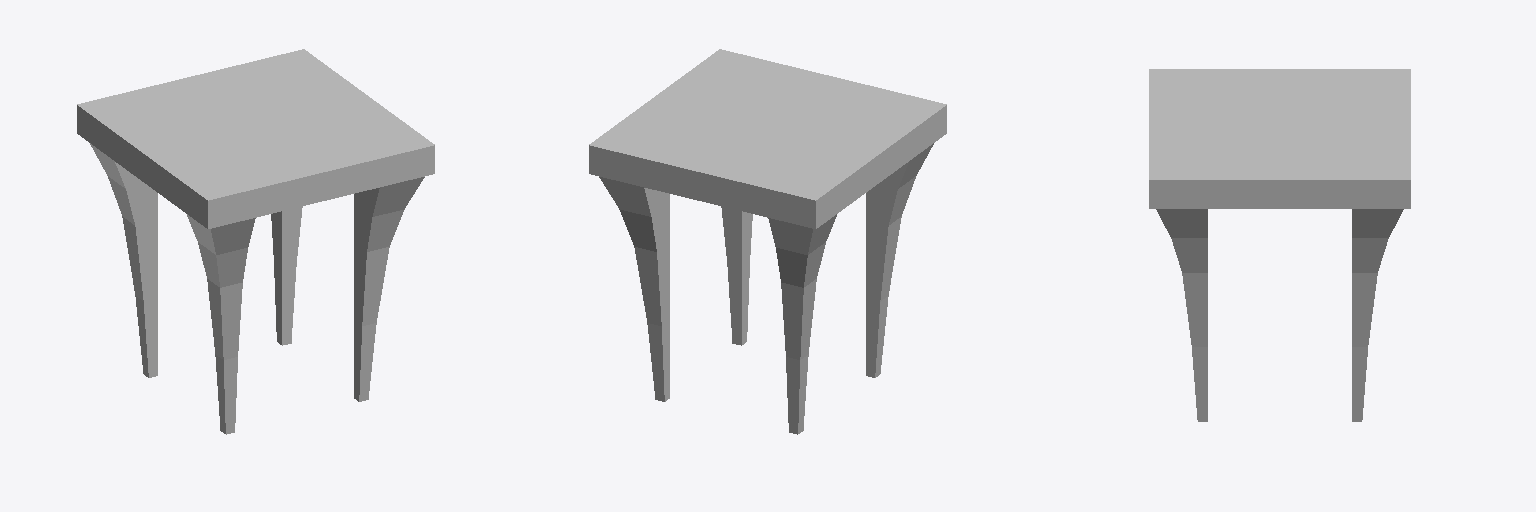
Rendered from Side_Table.obj.
3 renders of one model, left to right at view 1: azimuth 30°, elevation 25°; view 2: azimuth 150°, elevation 25°; view 3: azimuth 270°, elevation 25°, orthographic.
Visible parts, largest first — view 1: Side_Table__Side_Table; view 2: Side_Table__Side_Table; view 3: Side_Table__Side_Table.
Boxes of the visible parts, x1,y1,x2,y2 form: Side_Table__Side_Table: [77, 49, 434, 434]; Side_Table__Side_Table: [589, 49, 946, 434]; Side_Table__Side_Table: [1149, 69, 1410, 421].
Bounding box in the file's own units: 0.5534 × 0.6096 × 0.5534.